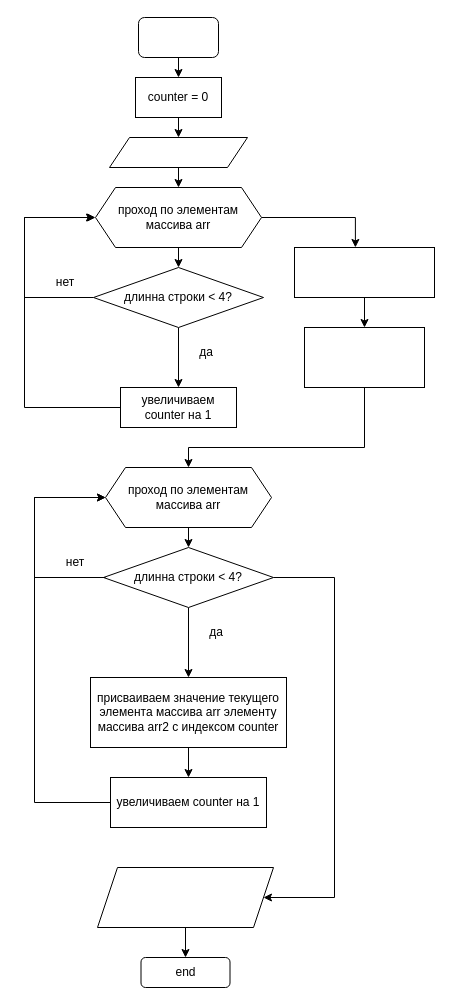
Some shapes in this 452 by 1005 pixel diagram are drawn without their labels. The shapes that lost their labels are listed below. From the top down, each one's centre as x and y in pixels, then its label:
At point (178, 37): "start".
At point (178, 152): "ввод данных (arr)".
At point (364, 272): "создаем массив arr2 с размером counter".
At point (364, 357): "обнуляем counter".
At point (185, 897): "вывод данных arr2".
